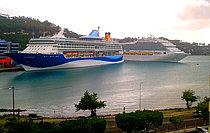Ship: (7, 28, 128, 75), (116, 34, 191, 67)
